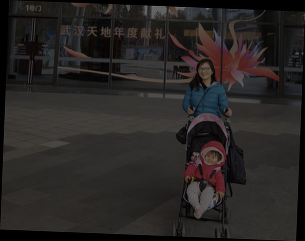without_mask: (198, 64, 212, 78), (205, 150, 217, 164)
